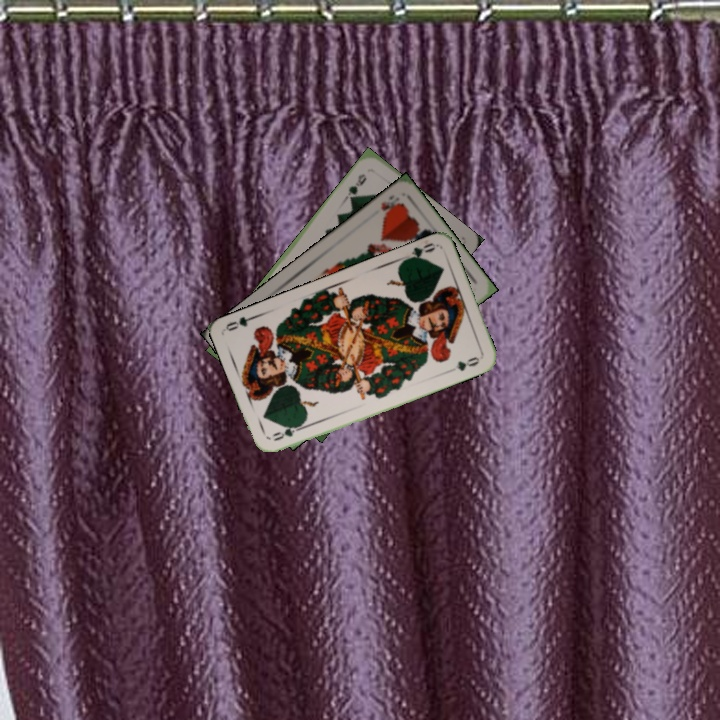G9: (342, 170, 369, 203)
GO: (399, 239, 438, 263), (268, 420, 306, 444)
HO: (377, 190, 405, 218)
